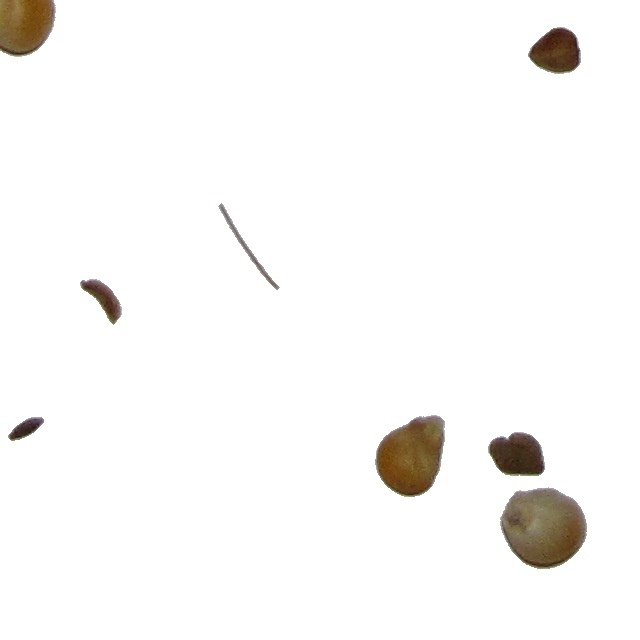buckwheat: (527, 26, 582, 75), (79, 278, 123, 326)
dill: (217, 202, 281, 291), (487, 431, 546, 477), (7, 416, 45, 442)
mais: (499, 486, 588, 570), (374, 414, 446, 498)
